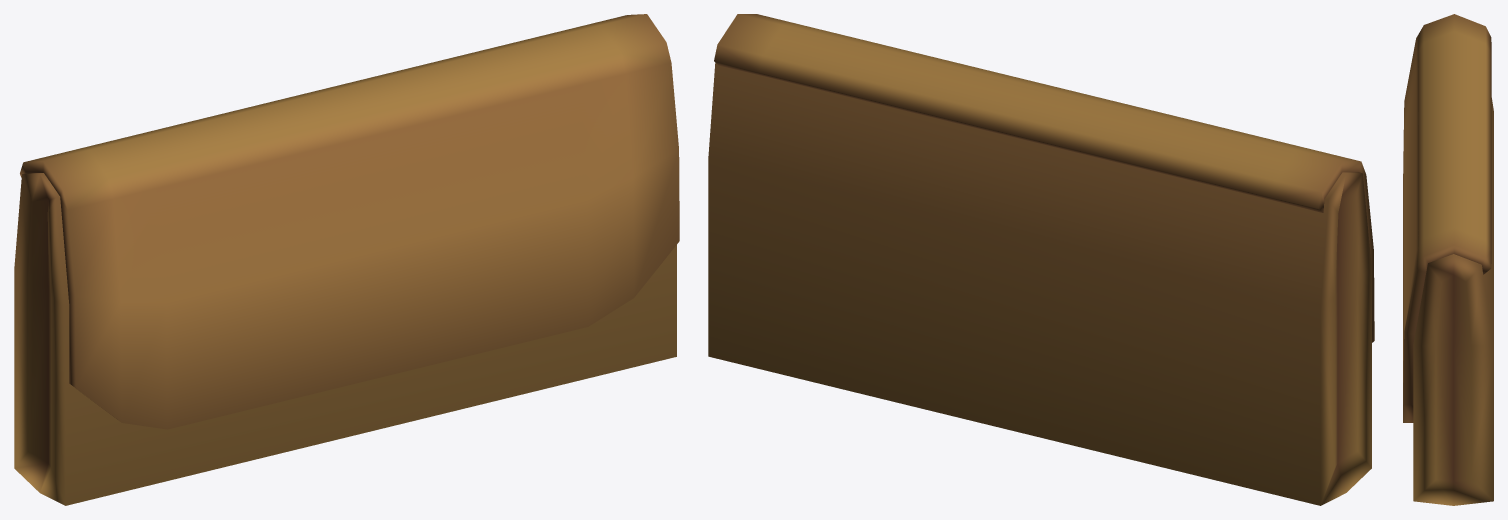
Rendered from human-clothing-clutch-purse_v1.glb.
3 views of the same model, side by side, from view 1: azimuth 30°, elevation 25°; view 2: azimuth 150°, elevation 25°; view 3: azimuth 270°, elevation 25° (orthographic). The views are drawn at different scales.
Parts seen in each view (by area): view 1: Clutch Purse; view 2: Clutch Purse; view 3: Clutch Purse.
Part boxes in pixels (box(x1,y1,x2,y2)): Clutch Purse: box(14, 14, 679, 505); Clutch Purse: box(708, 14, 1374, 505); Clutch Purse: box(1403, 14, 1493, 505).
Bounding box in the file's own units: 0.3 × 0.1549 × 0.0493.
